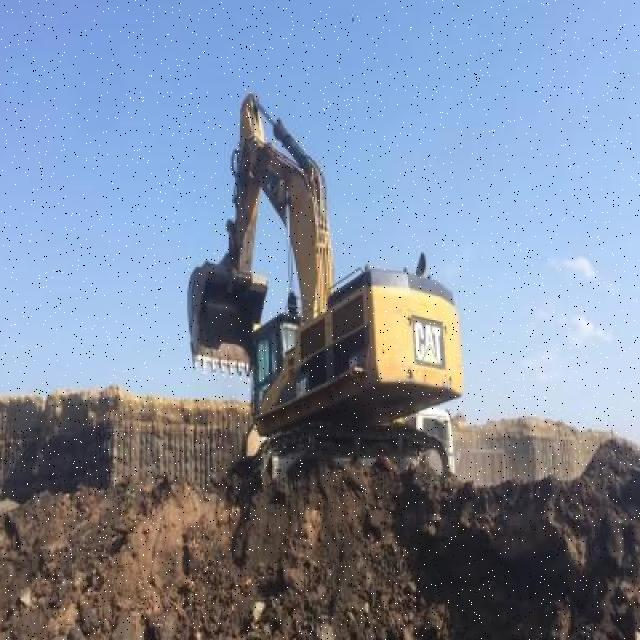Excavator: (178, 88, 474, 510)
